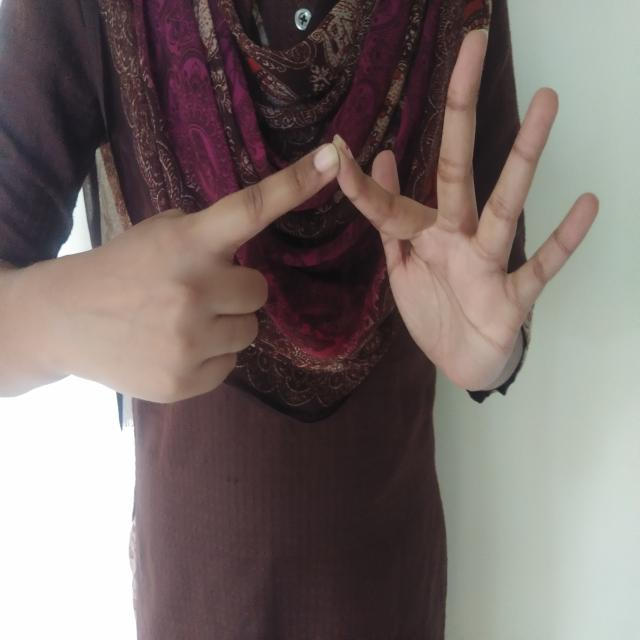E: (70, 22, 606, 420)
